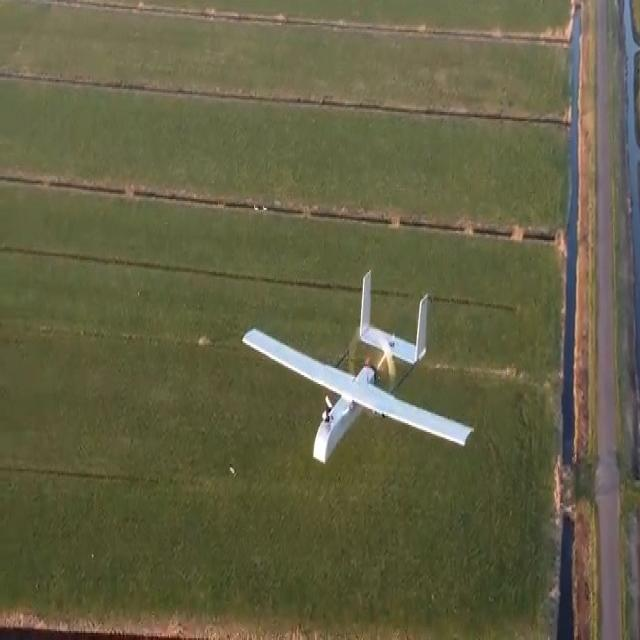iha: (248, 275, 475, 486)
